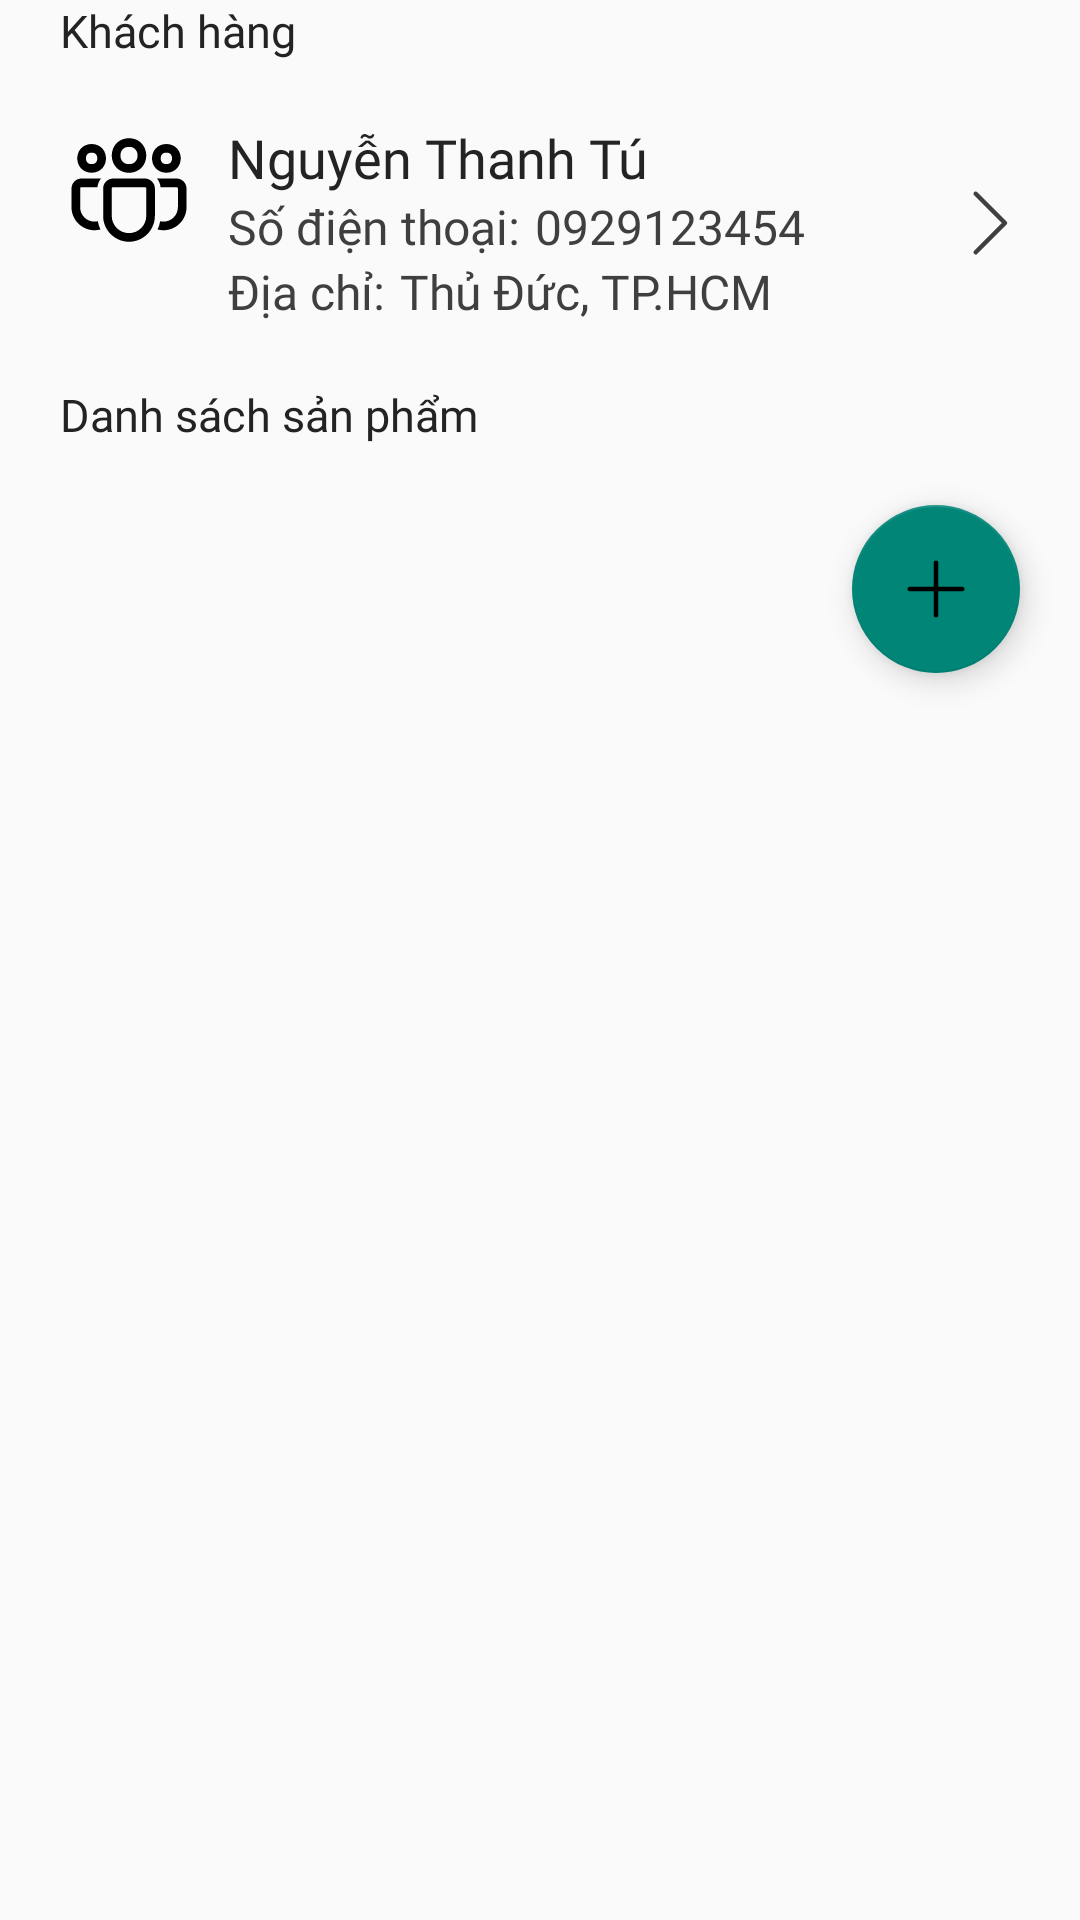

Where icons sit on this 1080px x 1920px app screen, as [left=x1, top=y1, right=x2, bottom=y2]:
customer: [left=71, top=138, right=187, bottom=242]
forward: [left=973, top=191, right=1007, bottom=255]
plus math: [left=852, top=505, right=1020, bottom=673]
